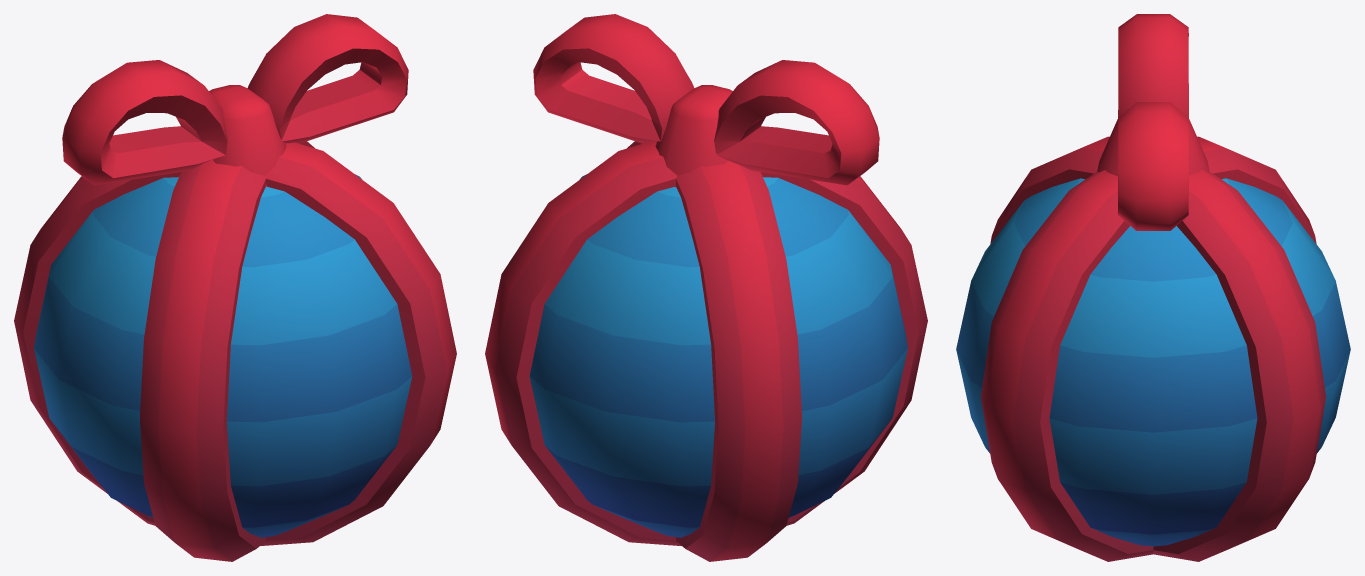
The model's file is present_sphere_A_blue.fbx.
3 renders of one model, left to right at view 1: azimuth 30°, elevation 25°; view 2: azimuth 150°, elevation 25°; view 3: azimuth 270°, elevation 25°, orthographic. The views are drawn at different scales.
Parts seen in each view (by area): view 1: present_sphere_A_blue; view 2: present_sphere_A_blue; view 3: present_sphere_A_blue.
Part boxes in pixels (left/top/right/bottom): present_sphere_A_blue: left=14, top=14, right=456, bottom=561; present_sphere_A_blue: left=485, top=14, right=927, bottom=561; present_sphere_A_blue: left=956, top=14, right=1350, bottom=561.
Size of the model in its own units: 55.76 by 75.01 by 55.76.
